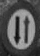Two way: (5, 4, 34, 50)
